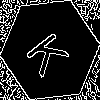K: (25, 24, 77, 79)
